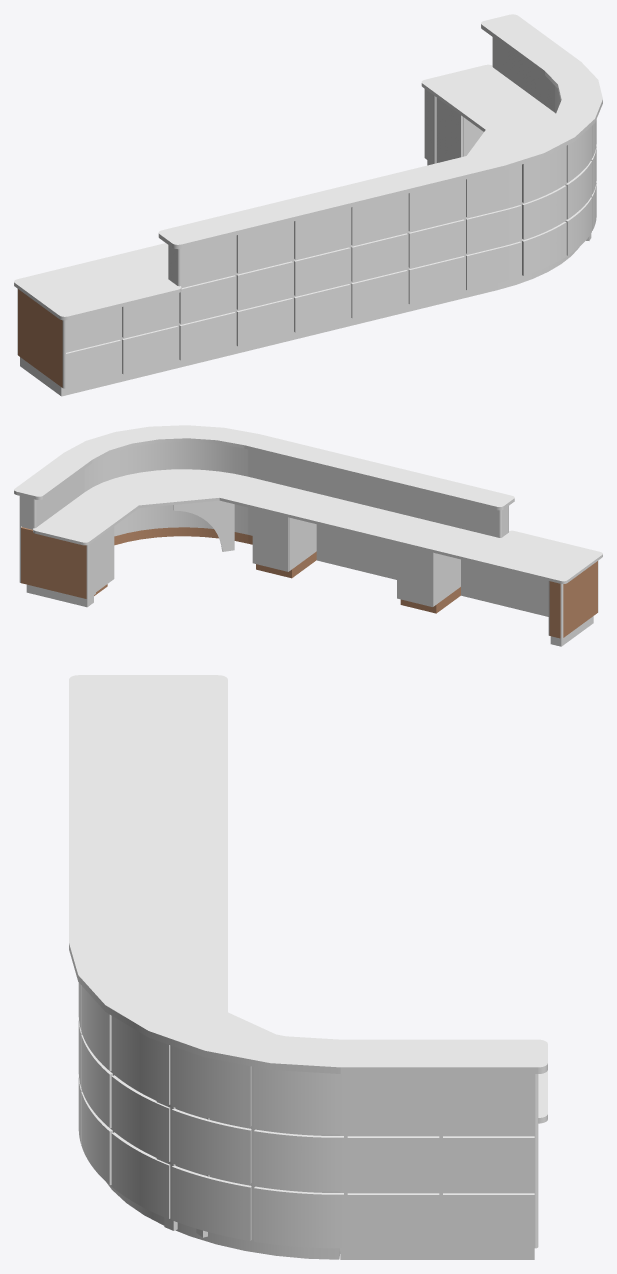
File: Reception Desk.fbx
The picture shows the model from 3 angles, top to bottom: view 1: azimuth 30°, elevation 25°; view 2: azimuth 150°, elevation 25°; view 3: azimuth 270°, elevation 25°; orthographic projection. The views are drawn at different scales.
Visible parts, largest first — view 1: Group_128; view 2: Group_128; view 3: Group_128.
Boxes of the visible parts, x1=… form: Group_128: x1=14, y1=14, x2=602, y2=396; Group_128: x1=14, y1=425, x2=602, y2=646; Group_128: x1=69, y1=675, x2=547, y2=1259.
Size of the model in its own units: 162 by 33.3 by 71.09.
